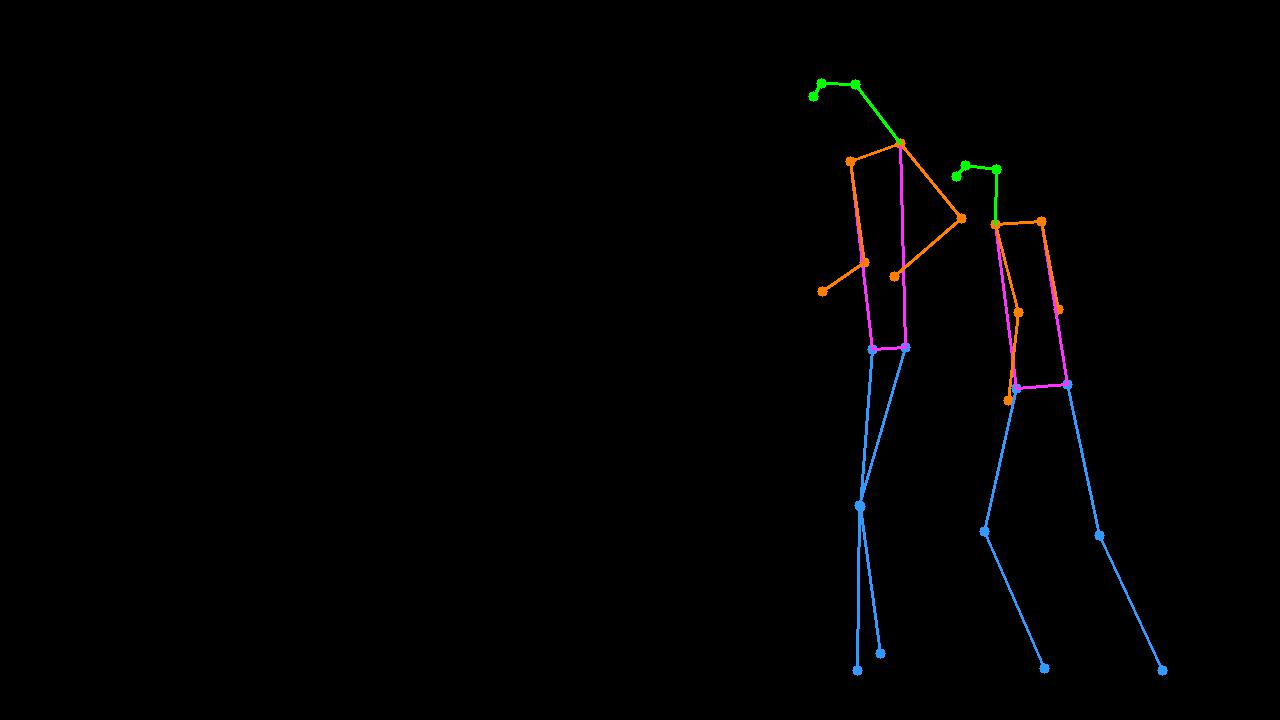normal: (948, 136, 1196, 720), (798, 40, 971, 720)
